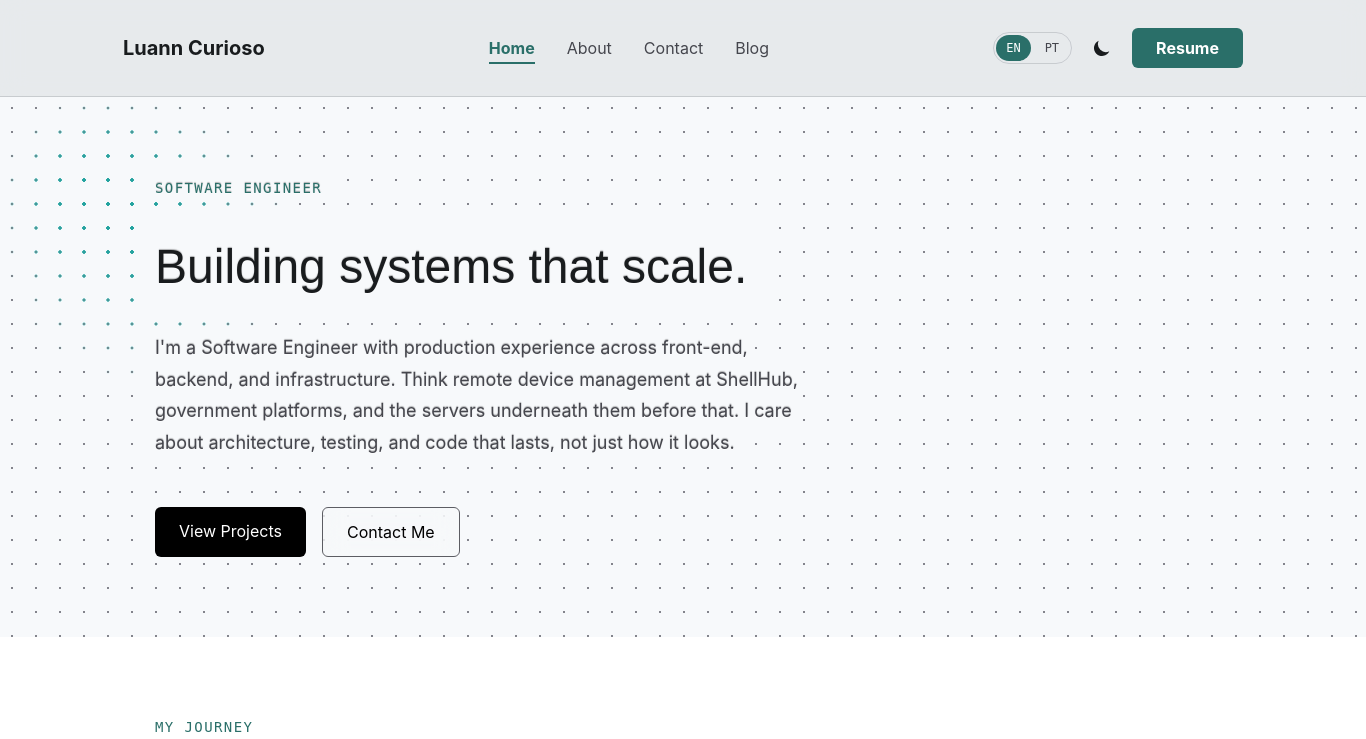
About page renders philosophy, skills, principles, and experience content
Click the link "About".
click(589, 48)  # box 567,38 -> 612,58
(page scrolled)
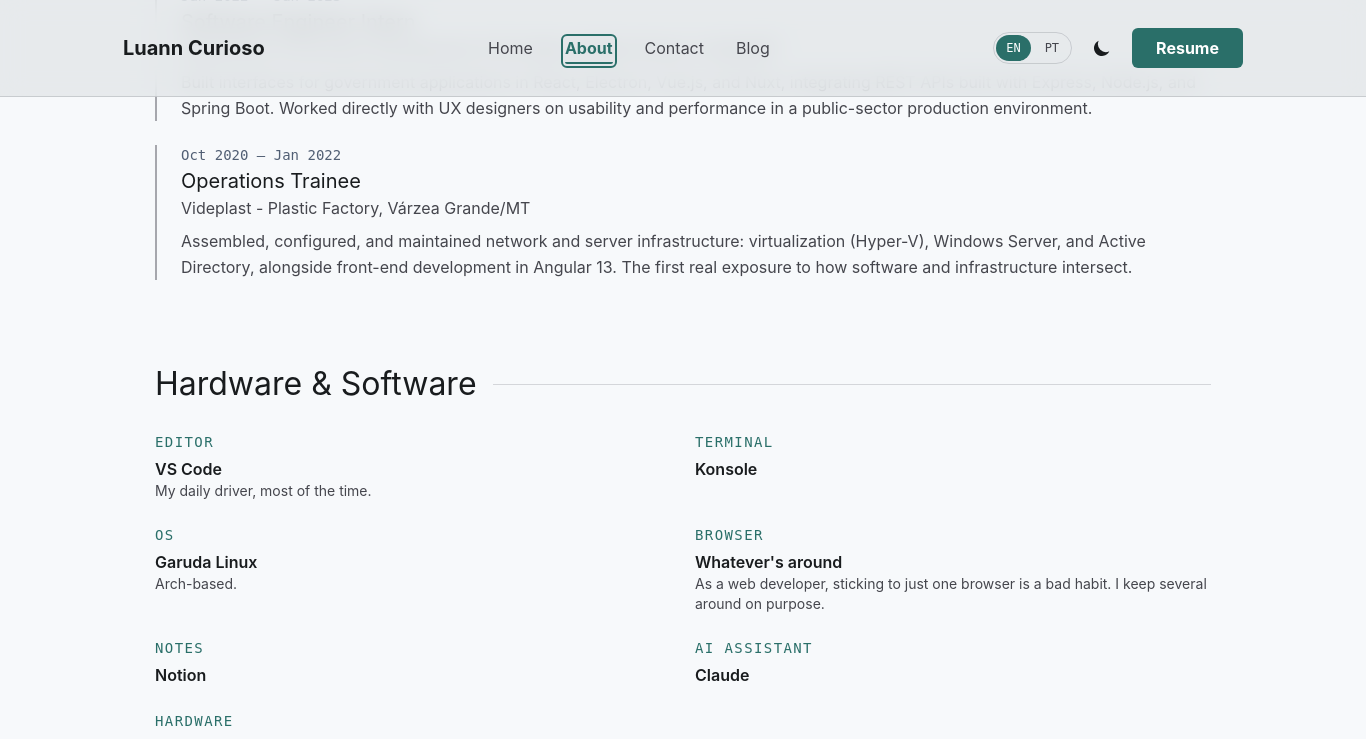
Now the heading "Hardware & Software" is shown, box 155,360 -> 476,408
Now the text "Building systems that scale." is gone
